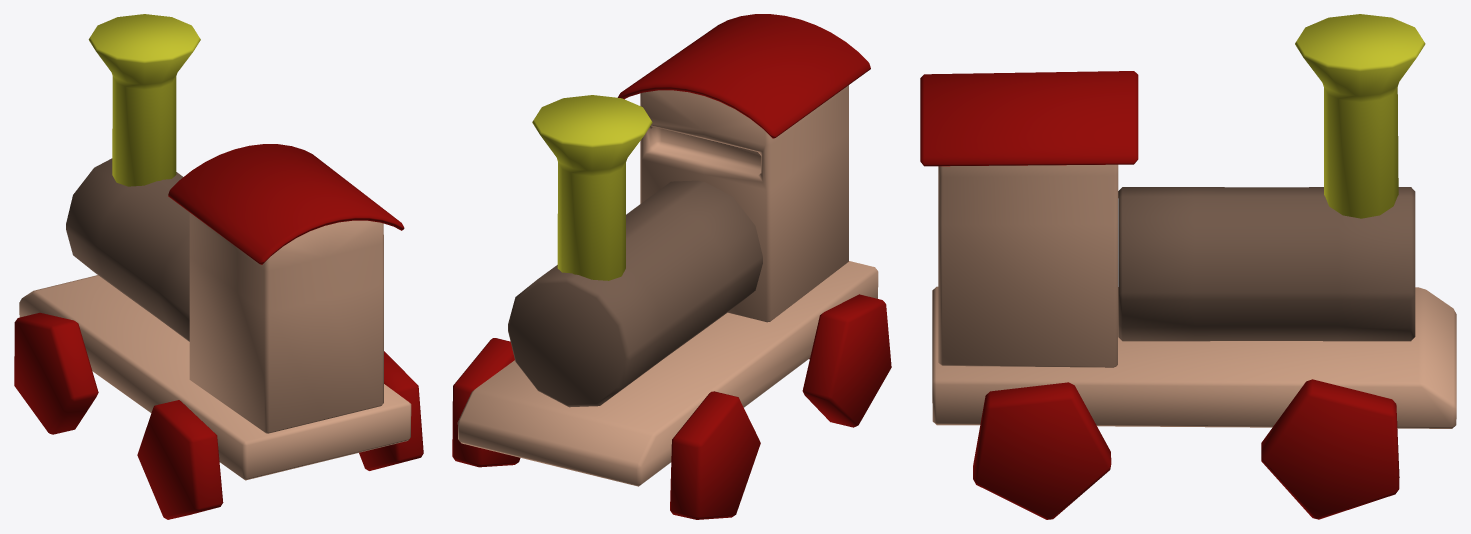
The model's file is props_Toy_train.fbx.
The picture shows the model from 3 angles, left to right: view 1: azimuth 30°, elevation 25°; view 2: azimuth 150°, elevation 25°; view 3: azimuth 270°, elevation 25°; orthographic projection. The views are drawn at different scales.
Visible parts, largest first — view 1: props_Toy_train; view 2: props_Toy_train; view 3: props_Toy_train.
Part boxes in pixels (x1,y1,x2,y2): props_Toy_train: (14, 14, 423, 519); props_Toy_train: (452, 14, 891, 519); props_Toy_train: (920, 14, 1456, 519).
Bounding box in the file's own units: 0.4971 × 0.8526 × 0.7295.
